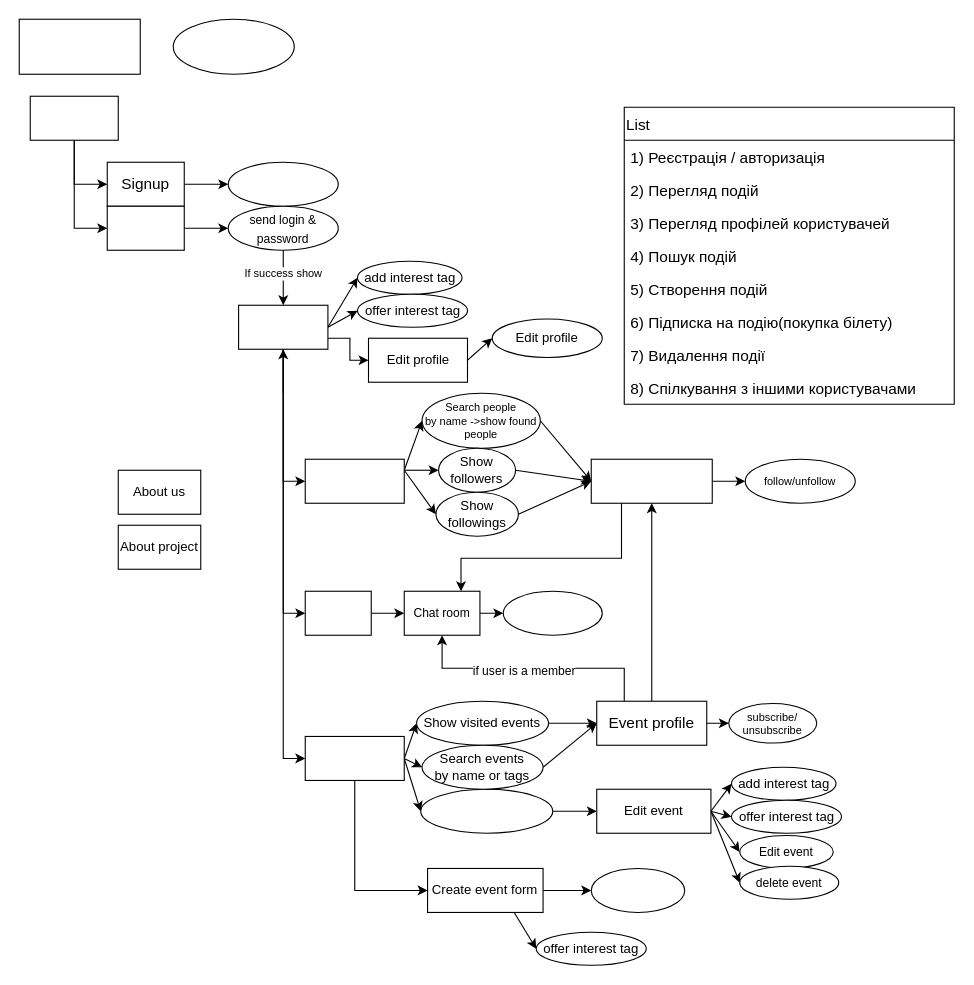
Image size: 974x985. Some labels were removed from this diagram. The centre of each missing label's shape, as x and y in pixels:
"Chats" goes at point (337, 612).
"Events" goes at point (354, 757).
"Friends" goes at point (354, 480).
"Login" goes at point (145, 227).
"Main" goes at point (73, 117).
"Own Profile" goes at point (282, 326).
"send create event form" goes at point (637, 889).
"send message" goes at point (552, 612).
"send sign-up form" goes at point (282, 183).
"Show organized events" goes at point (486, 810).
"User profile" goes at point (651, 480).
"овал - це дія" goes at point (233, 46).
"прямокутник - це сторінка" goes at point (79, 46).
